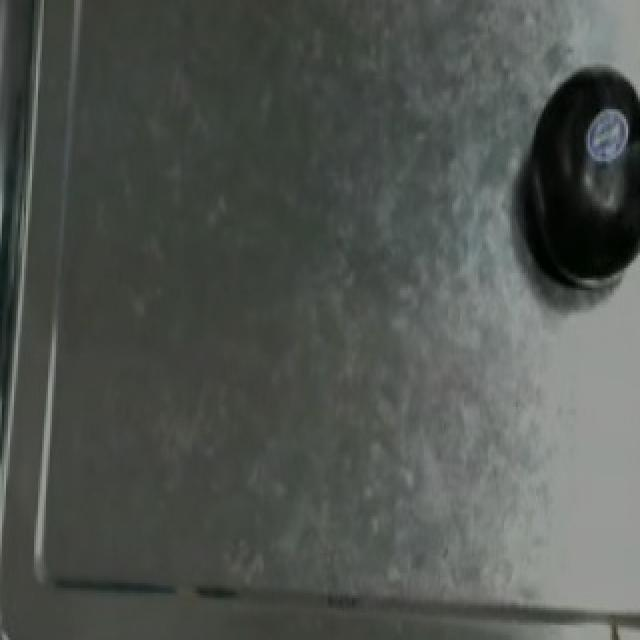Fruit: (506, 112, 640, 300)
